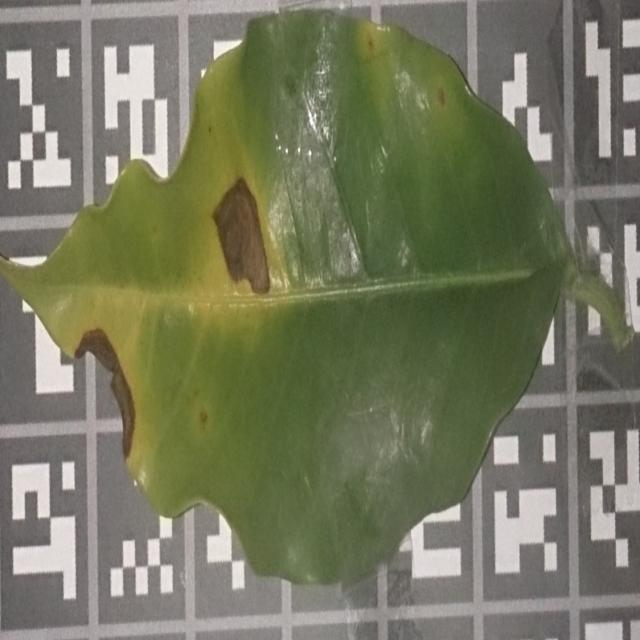Enfermedad-Mancha-de-hierro: (0, 10, 626, 590)
